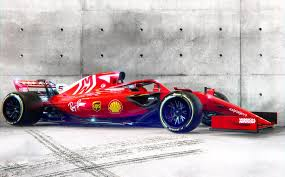f1_car: (1, 65, 284, 147)
